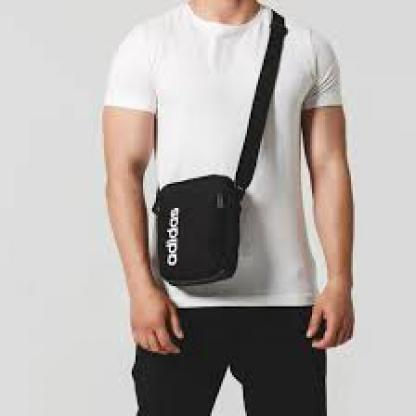morral: (130, 164, 275, 294)
